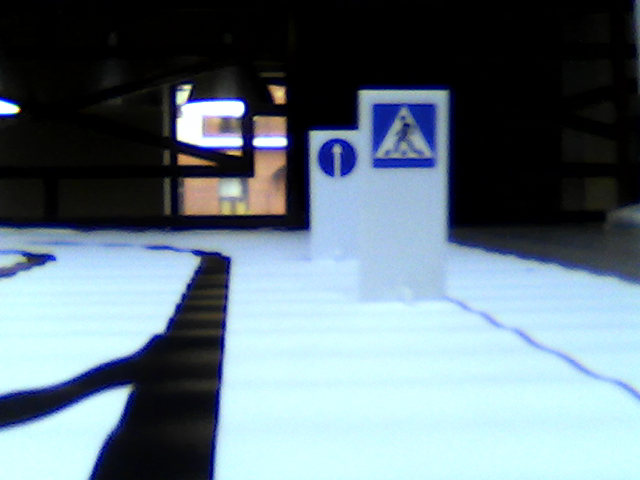forw: (317, 136, 356, 178)
pesh: (371, 101, 442, 172)
